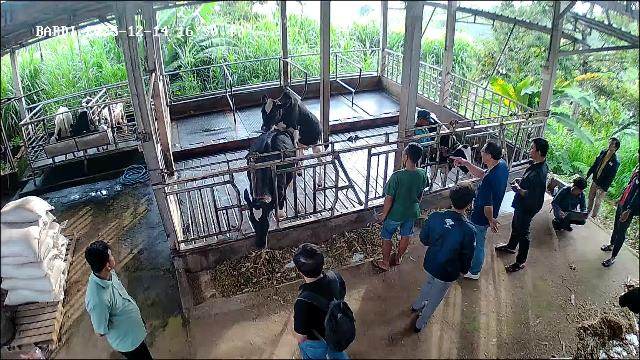mounting: (257, 89, 327, 184)
